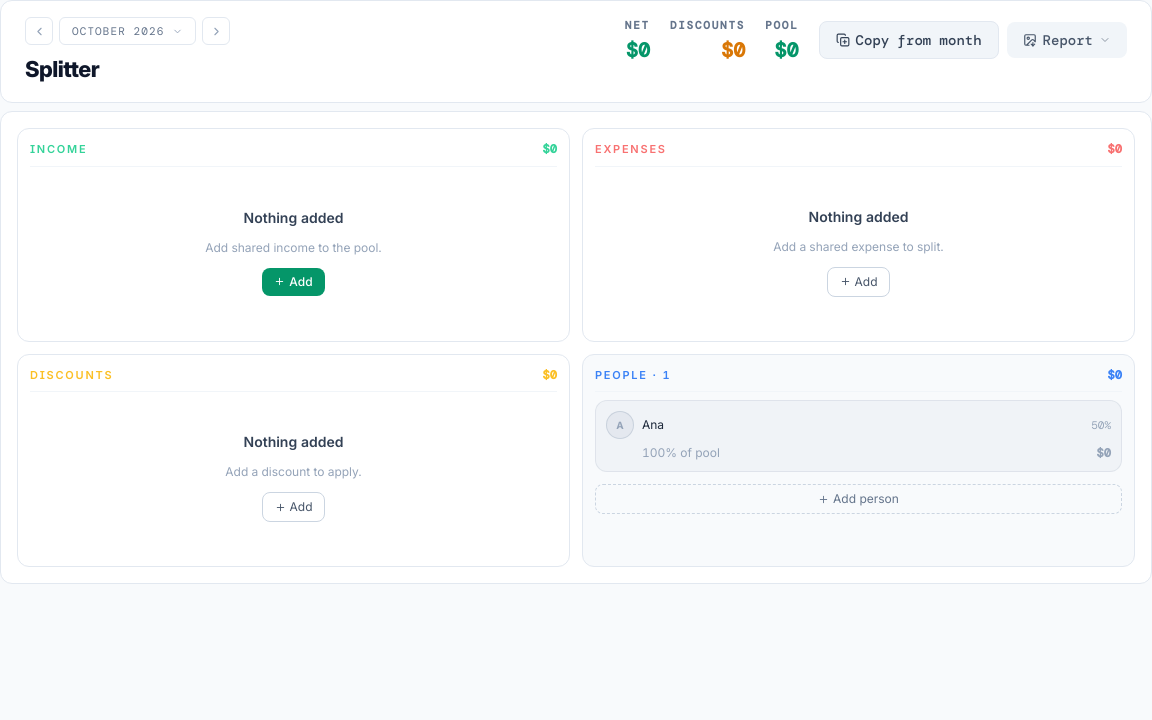
Scenario: Splitter month copy › disables Copy when the preview has nothing to copy
This screenshot has width=1152, height=720.
Click the button "Copy from month": (909, 40) [819, 21, 999, 59]
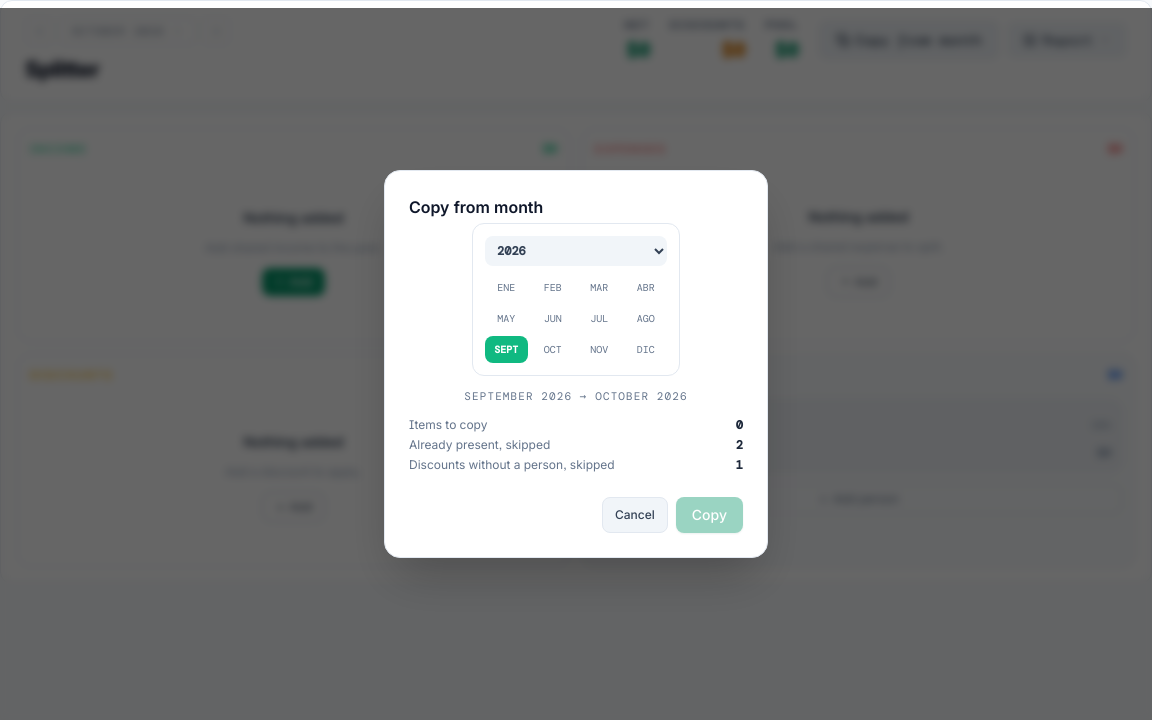
Result: the text "Items to copy" is shown at [409, 417, 488, 433]
Result: the button "Copy" is disabled at [676, 497, 743, 533]
